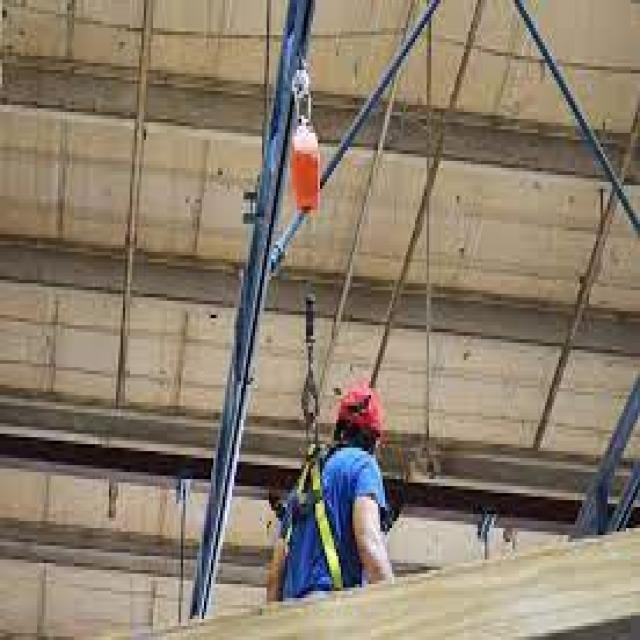Arnes_seguridad: (283, 440, 344, 591)
